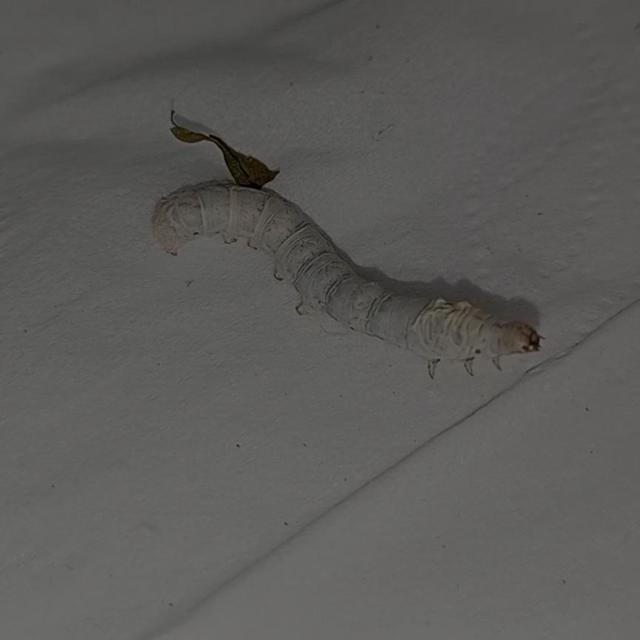Healthy: (146, 147, 544, 394)
